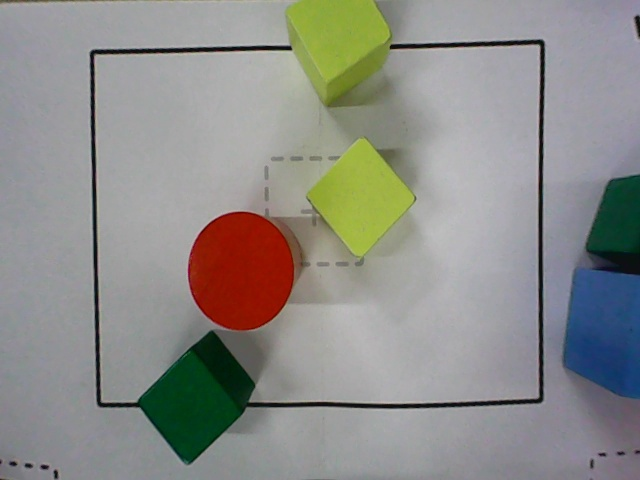upside of cylinder: (187, 212, 295, 331)
upside of small cube: (305, 135, 417, 260), (137, 349, 244, 466), (285, 0, 394, 84)
